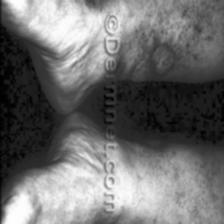Non-Cancerous Skin Condition: (127, 36, 175, 90), (194, 0, 224, 60), (193, 184, 224, 224)
